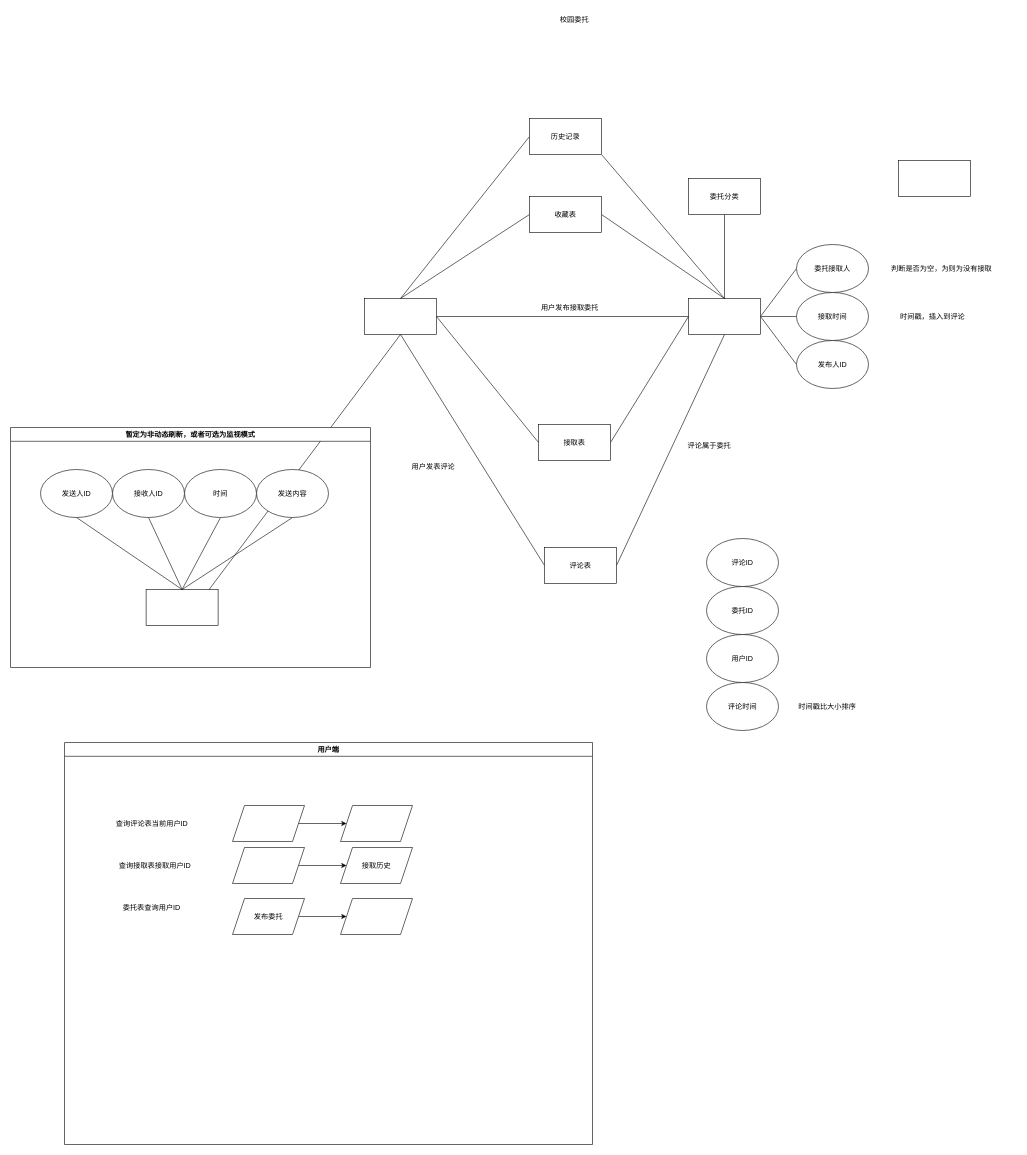
Image size: 1027x1155. Some labels were removed from this diagram. The centre of each missing label's shape, as x and y in pixels:
个人信息: the point at 268,823
历史发布: the point at 376,916
委托表: the point at 724,316
我的接取: the point at 268,865
我的评论: the point at 376,823
用户表: the point at 400,316
留言表: the point at 182,607
管理员表: the point at 934,178
